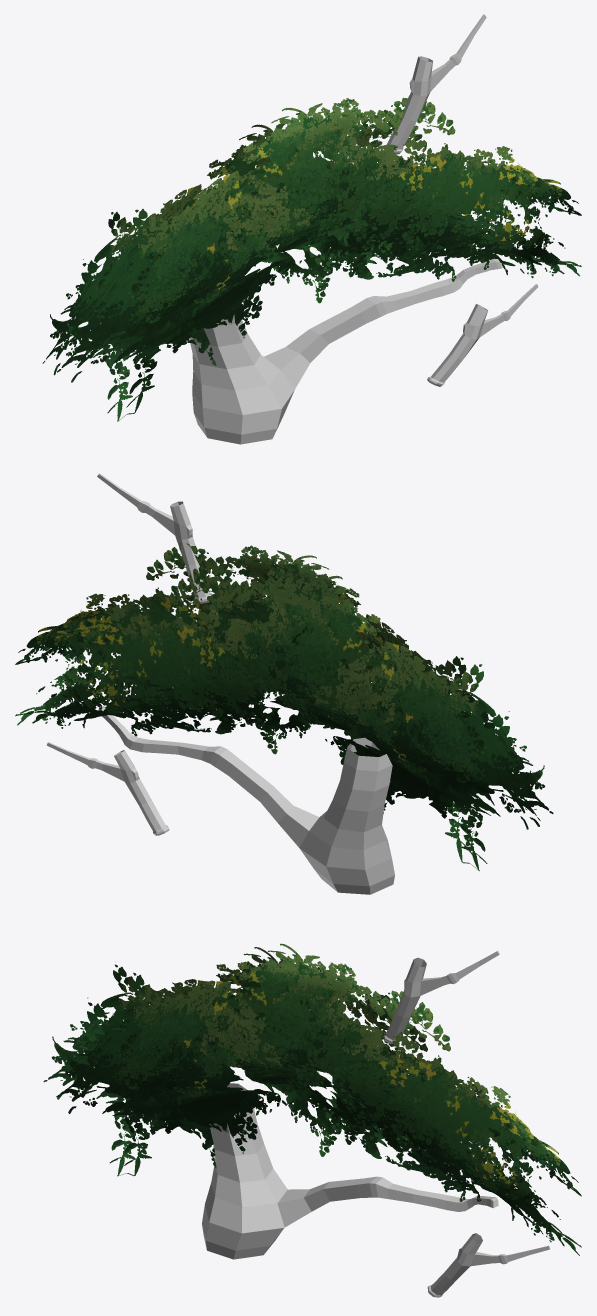
The model's file is shu6.fbx.
3 renders of one model, top to bottom at view 1: azimuth 30°, elevation 25°; view 2: azimuth 150°, elevation 25°; view 3: azimuth 330°, elevation 25°, orthographic.
Parts seen in each view (by area): view 1: shu6; view 2: shu6; view 3: shu6.
Part boxes in pixels (left/top/right/bottom): shu6: left=42, top=14, right=581, bottom=444; shu6: left=15, top=473, right=553, bottom=894; shu6: left=43, top=943, right=581, bottom=1297.
Bounding box in the file's own units: 731 × 434 × 104.
